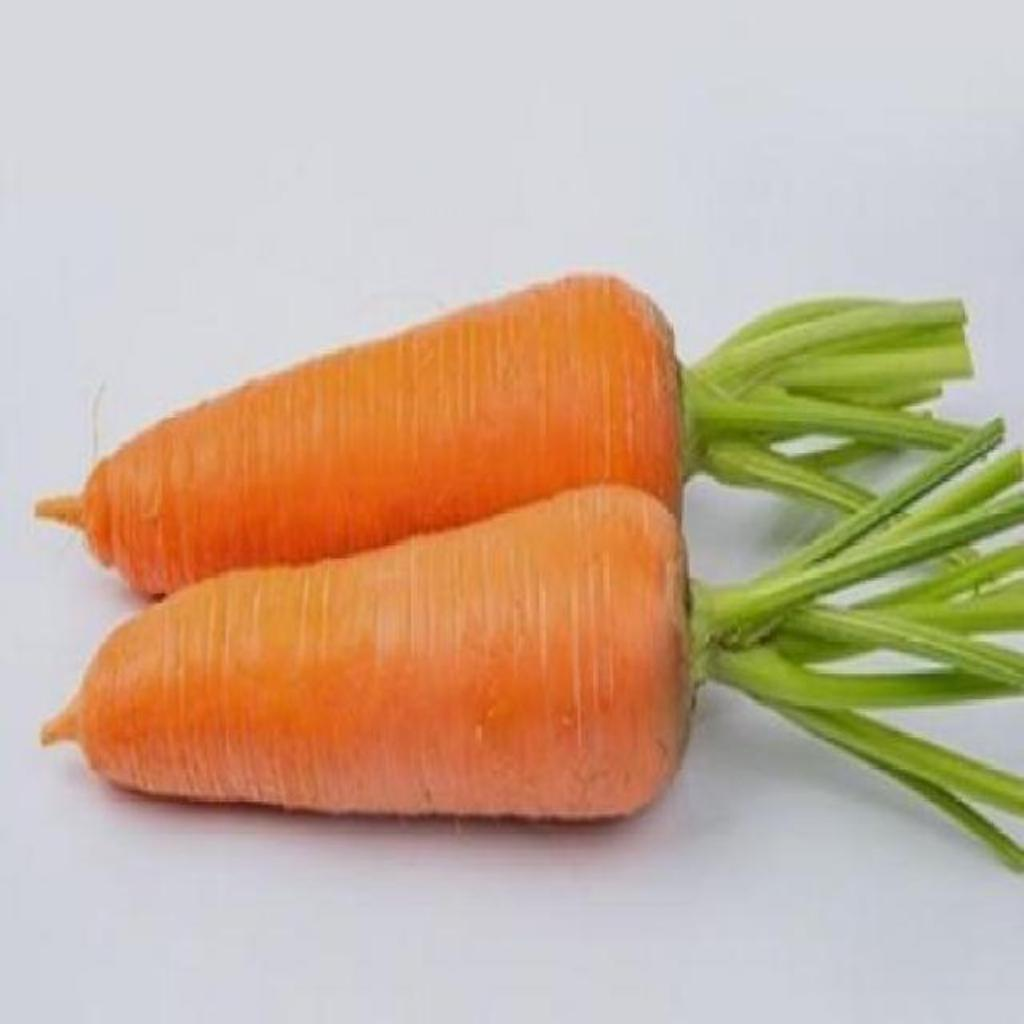carrot: (44, 424, 1024, 867), (38, 276, 972, 593)
